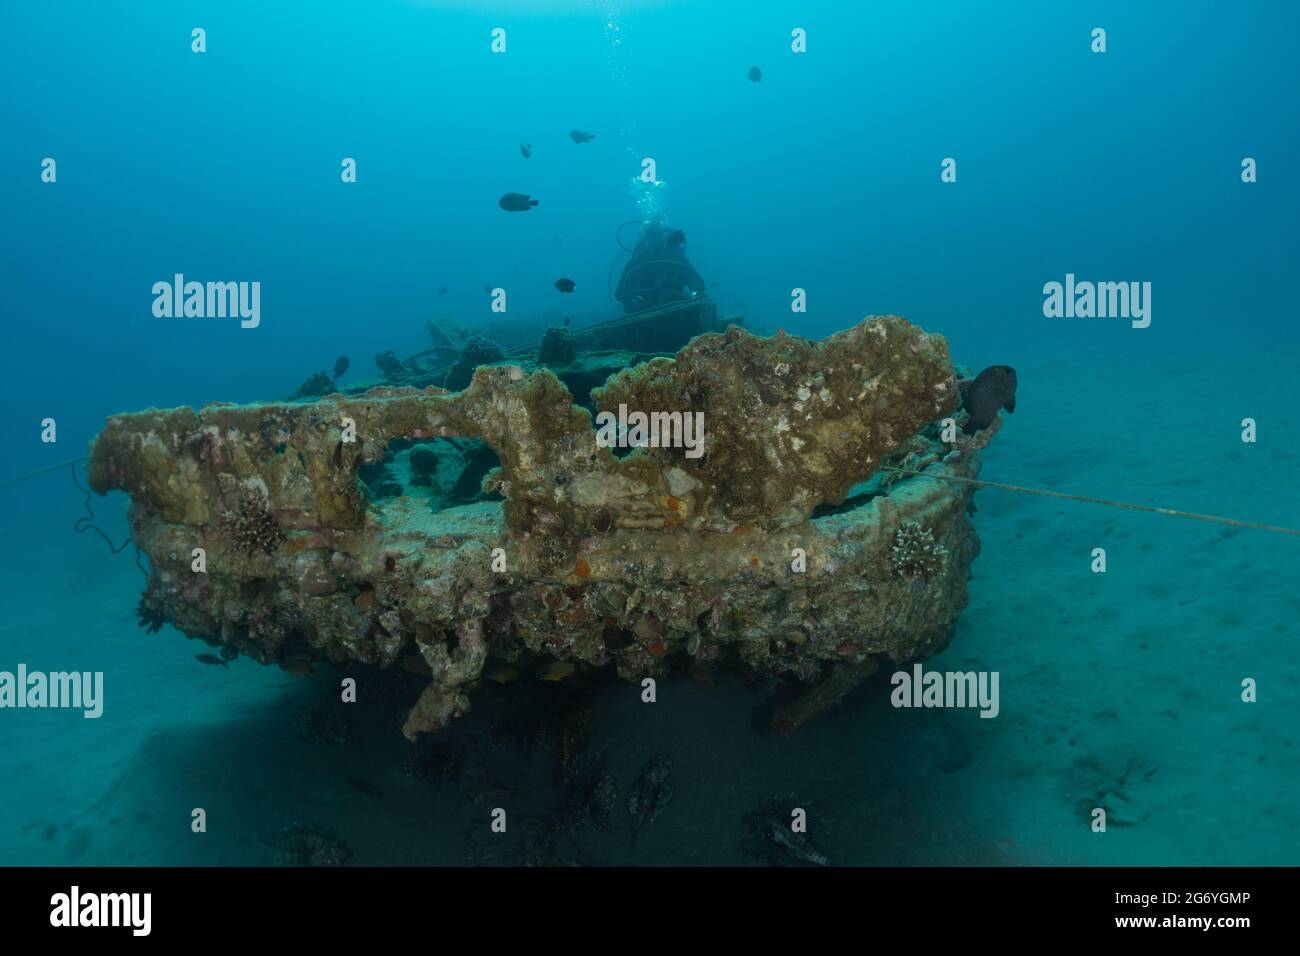Metal: (87, 320, 973, 733)
